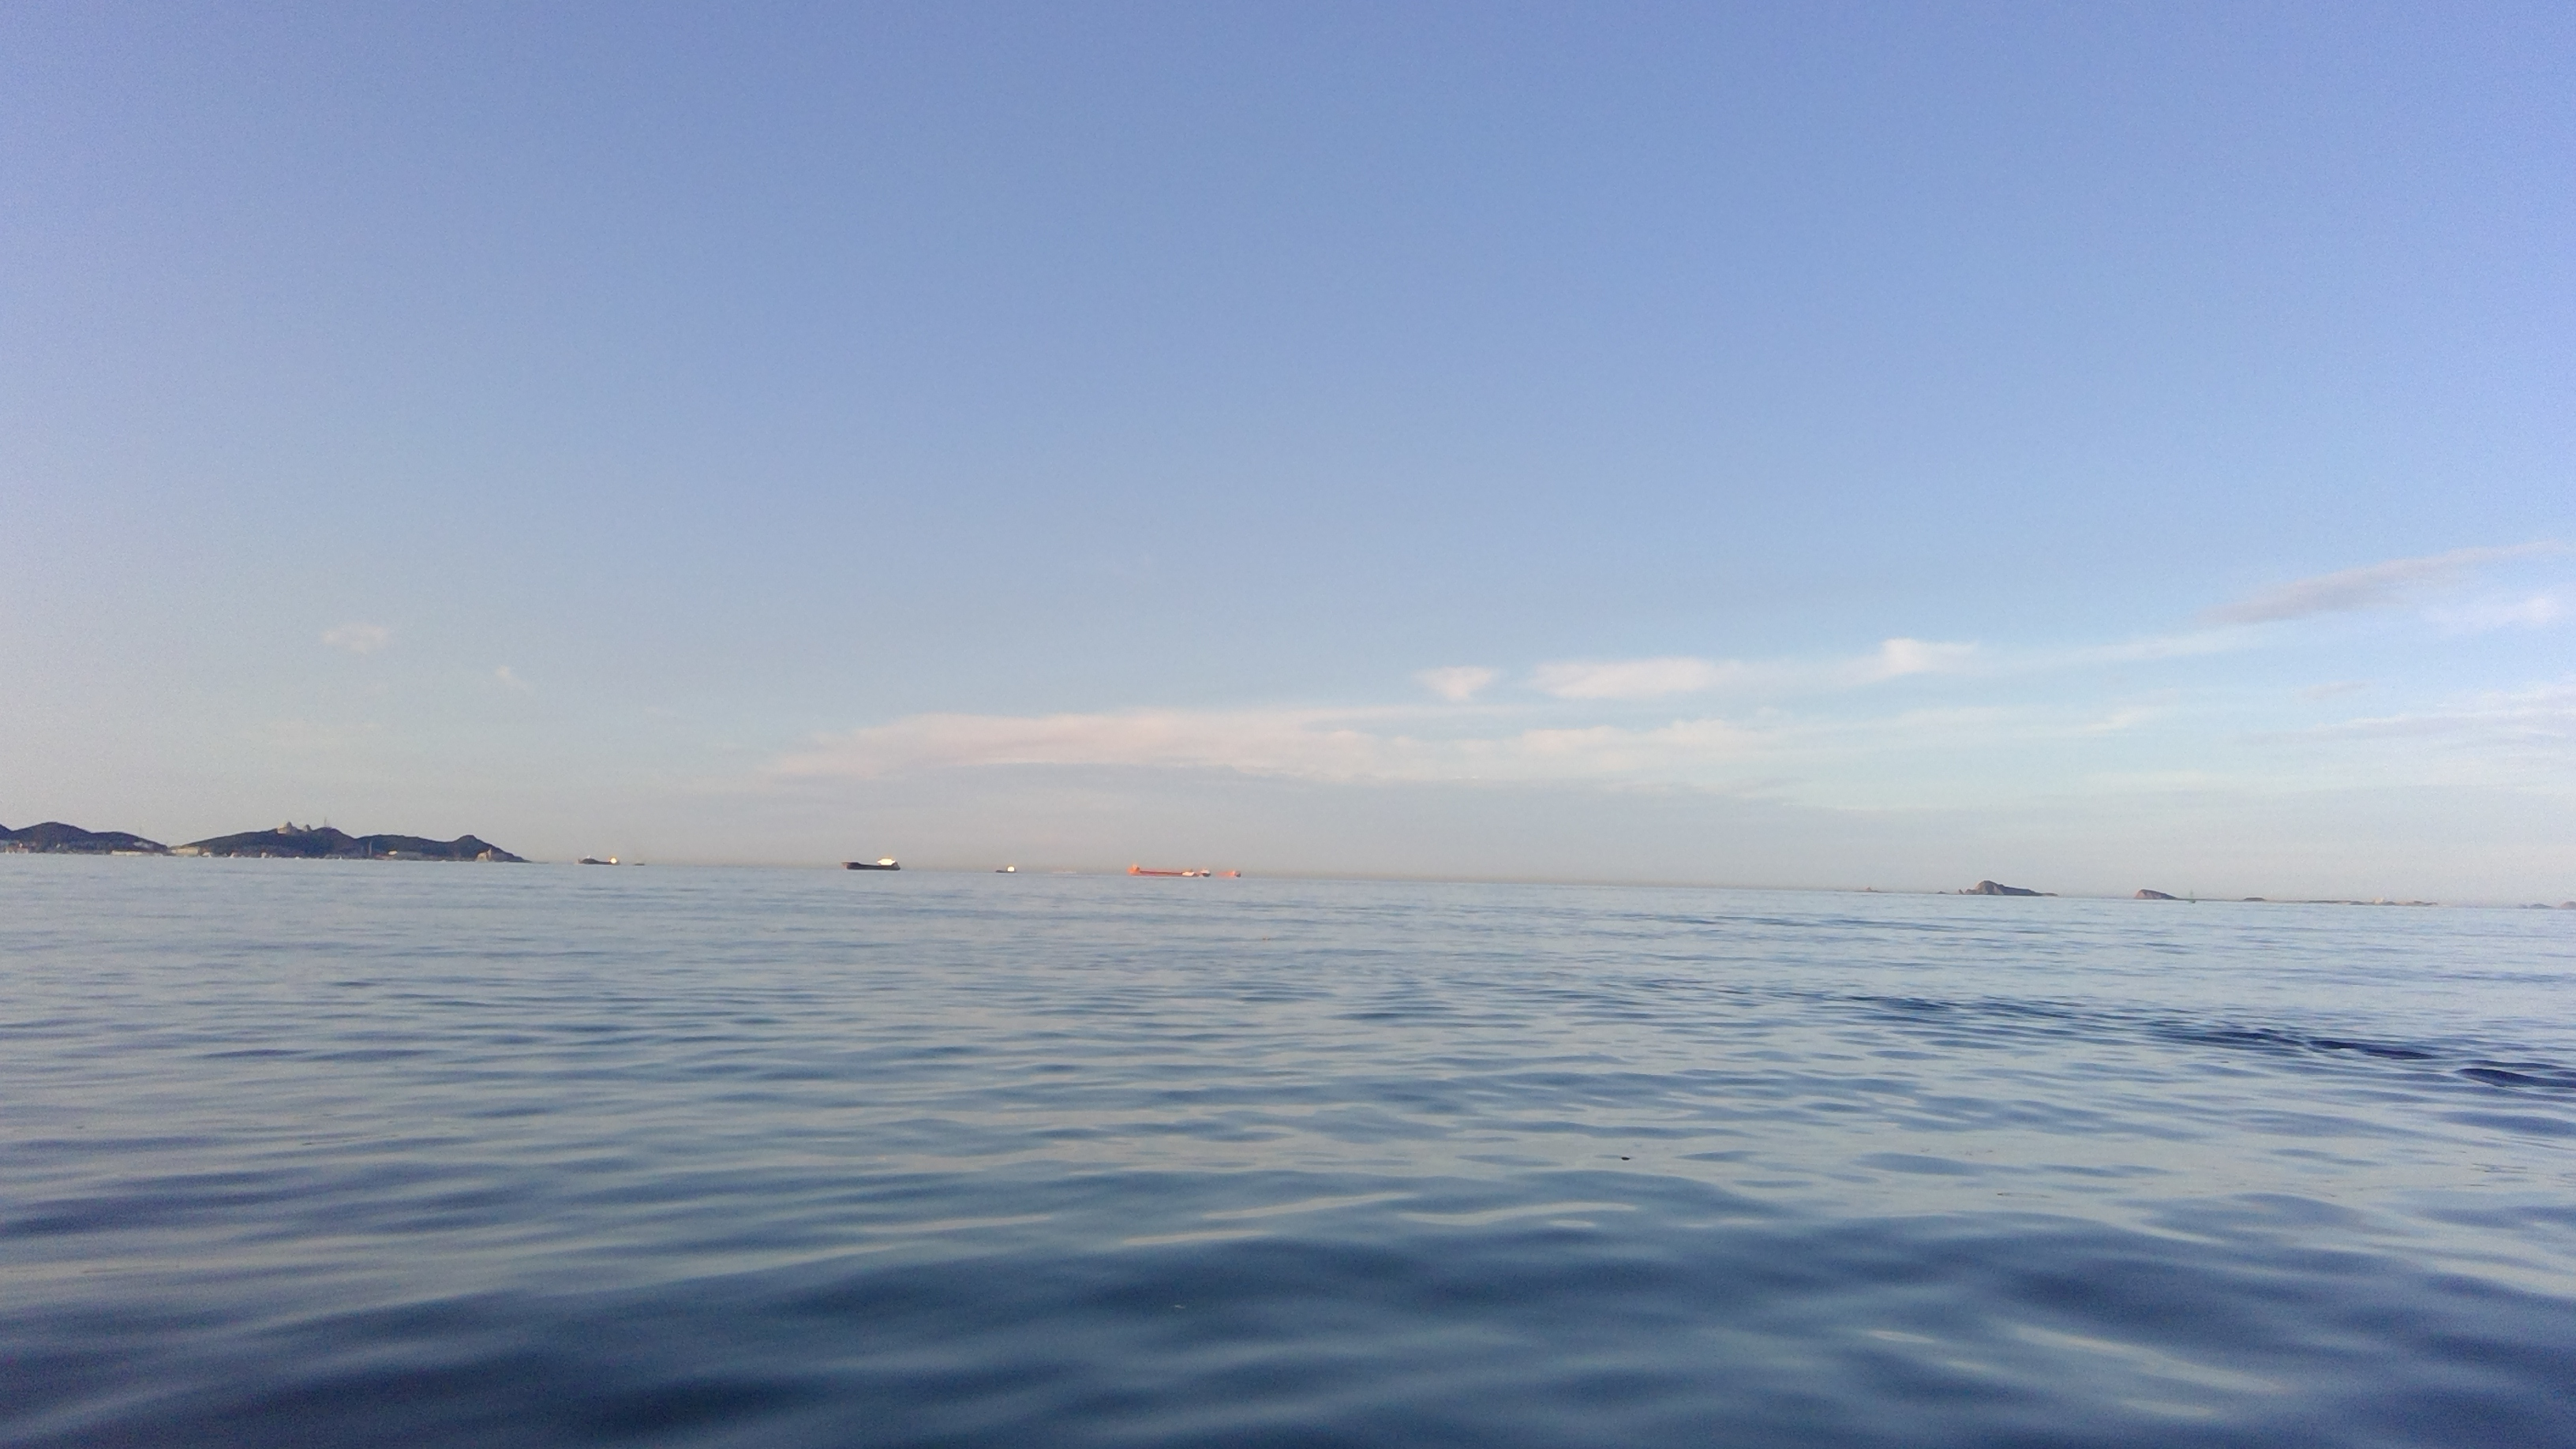platform: (1125, 853, 1244, 879)
rock: (186, 819, 541, 858), (2, 803, 163, 860), (1951, 867, 2052, 899), (2123, 878, 2169, 911)
ship: (833, 853, 902, 883)
